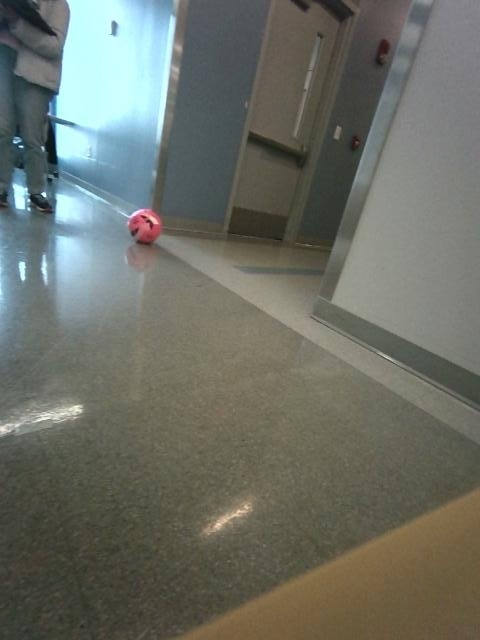ball: (128, 209, 161, 243)
